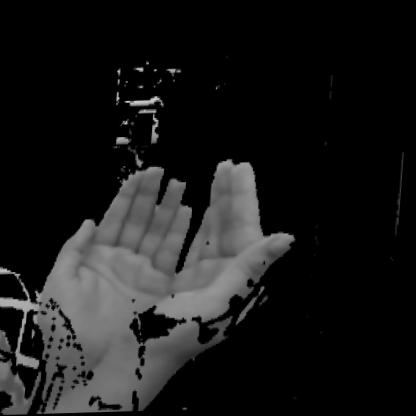dua: (2, 144, 314, 411)
